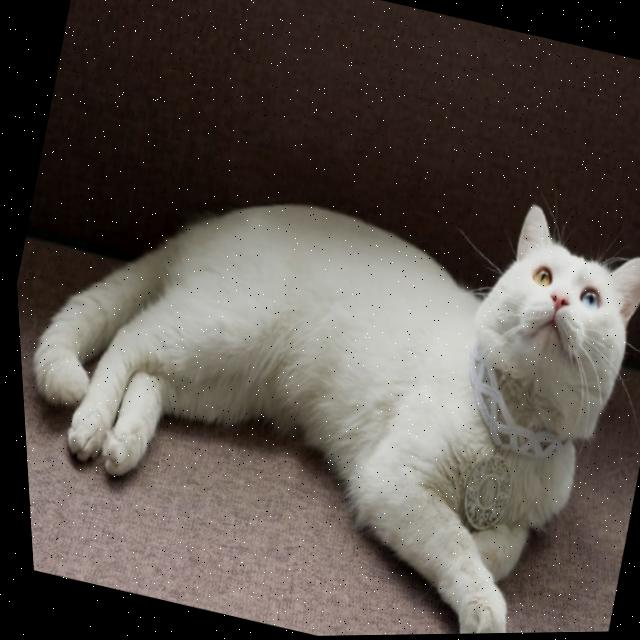Khao Manee: (4, 87, 640, 640)
